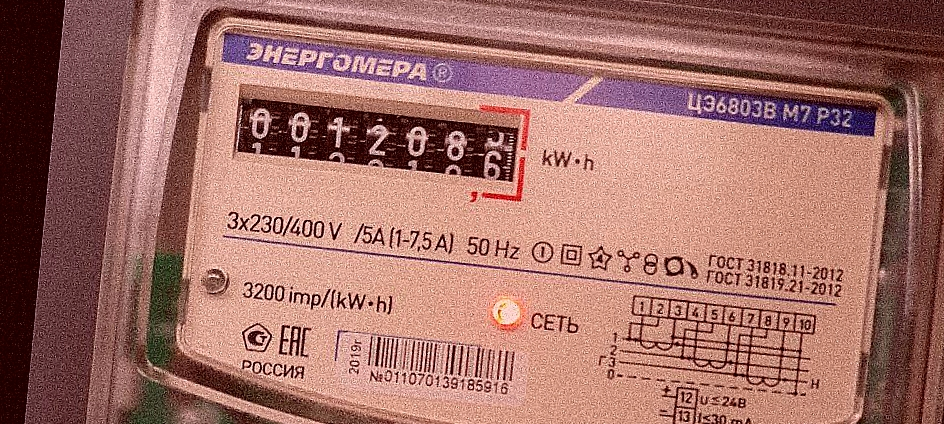0: (286, 106, 313, 145), (403, 121, 431, 158), (249, 102, 272, 141)
1: (327, 112, 348, 150)
2: (364, 120, 393, 158)
6: (479, 145, 505, 182)
8: (441, 126, 468, 164)
screen: (219, 70, 541, 217)
